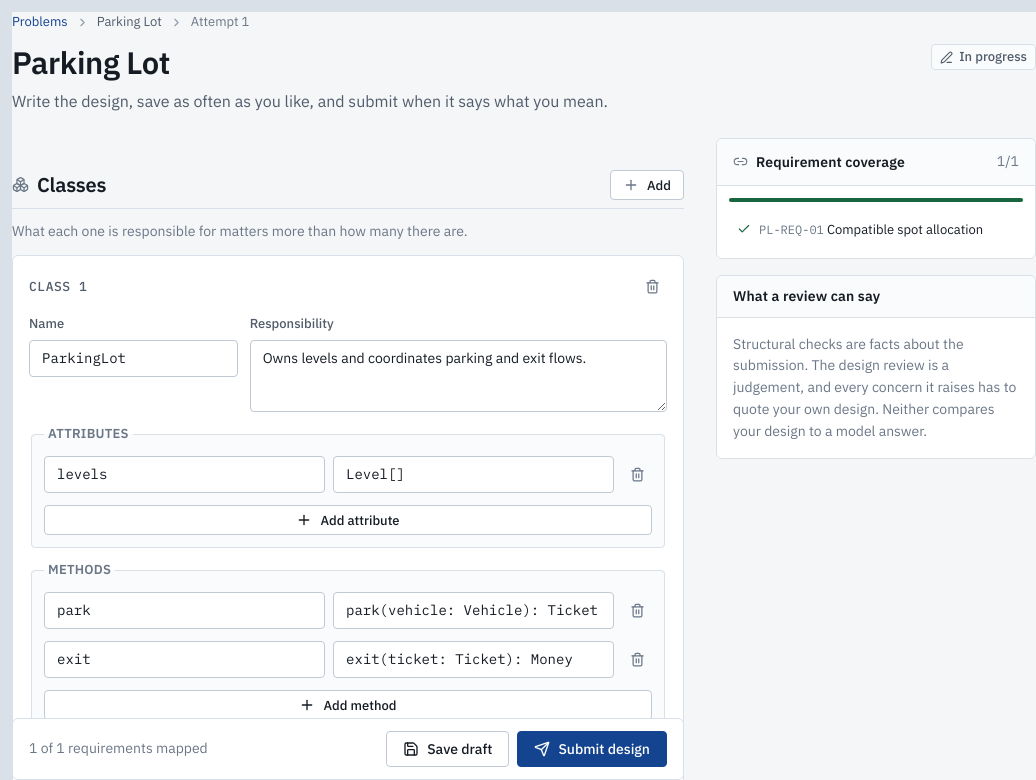
Test: the attempt workspace › confirms a clean save
Click the button "Save draft". click: {"x": 448, "y": 749}
box: 386,731 -> 509,767
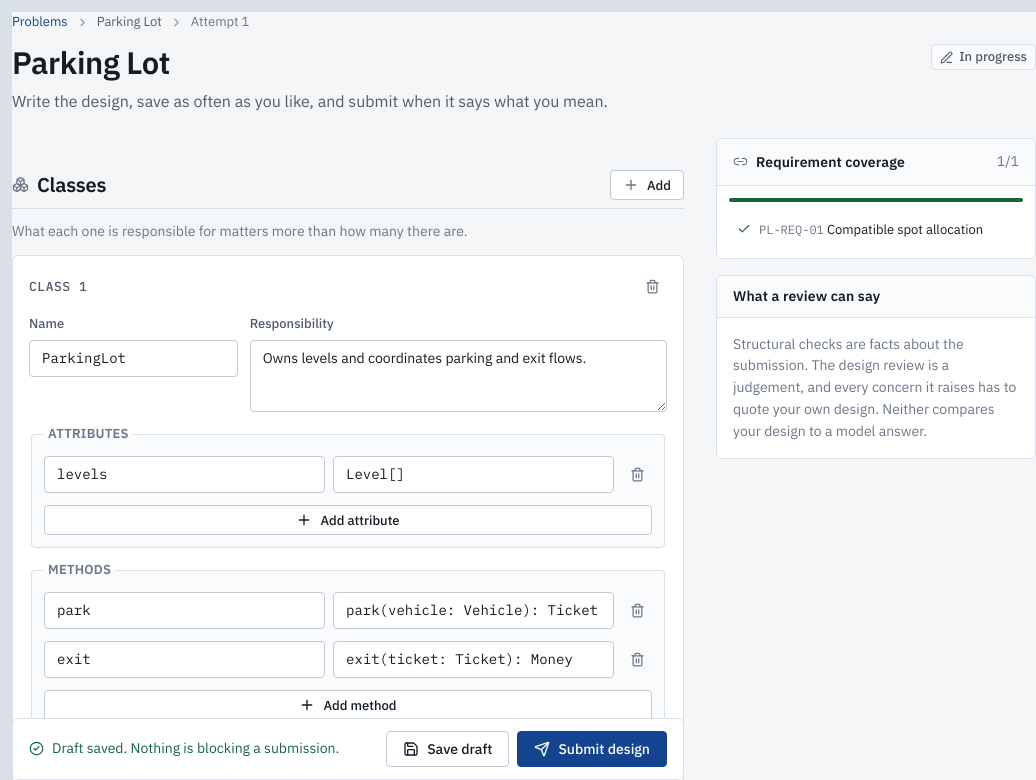
Check: the text "Draft saved. Nothing is blocking a submission." is shown, box 29,738 -> 339,760
